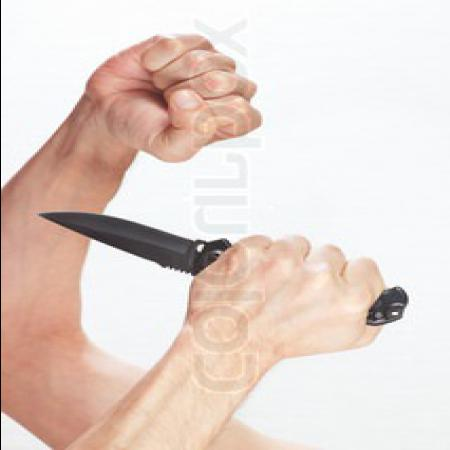long weapon: (19, 204, 315, 310)
